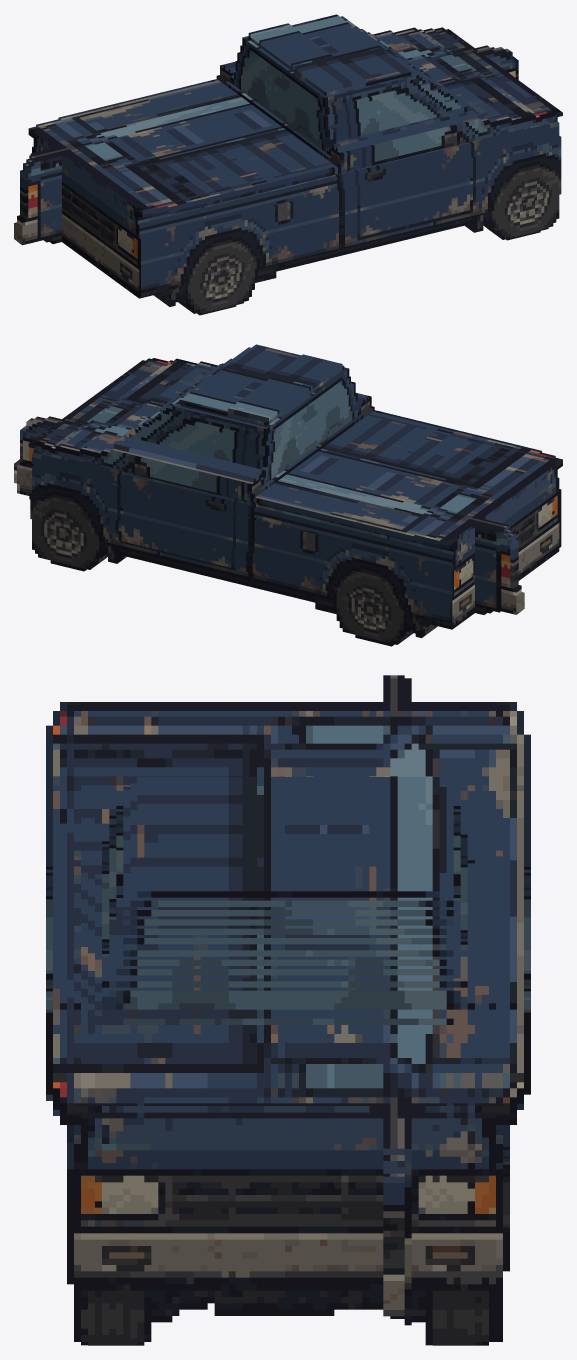
The model's file is city_pickup.glb.
3 renders of one model, top to bottom at view 1: azimuth 30°, elevation 25°; view 2: azimuth 150°, elevation 25°; view 3: azimuth 270°, elevation 25°, orthographic. The views are drawn at different scales.
Visible parts, largest first — view 1: city_pickup; view 2: city_pickup; view 3: city_pickup.
Part boxes in pixels (x1,y1,x2,y2): city_pickup: (14, 14, 562, 315); city_pickup: (14, 344, 562, 646); city_pickup: (46, 675, 530, 1345).
Bounding box in the file's own units: 5.19 × 1.81 × 2.16.
